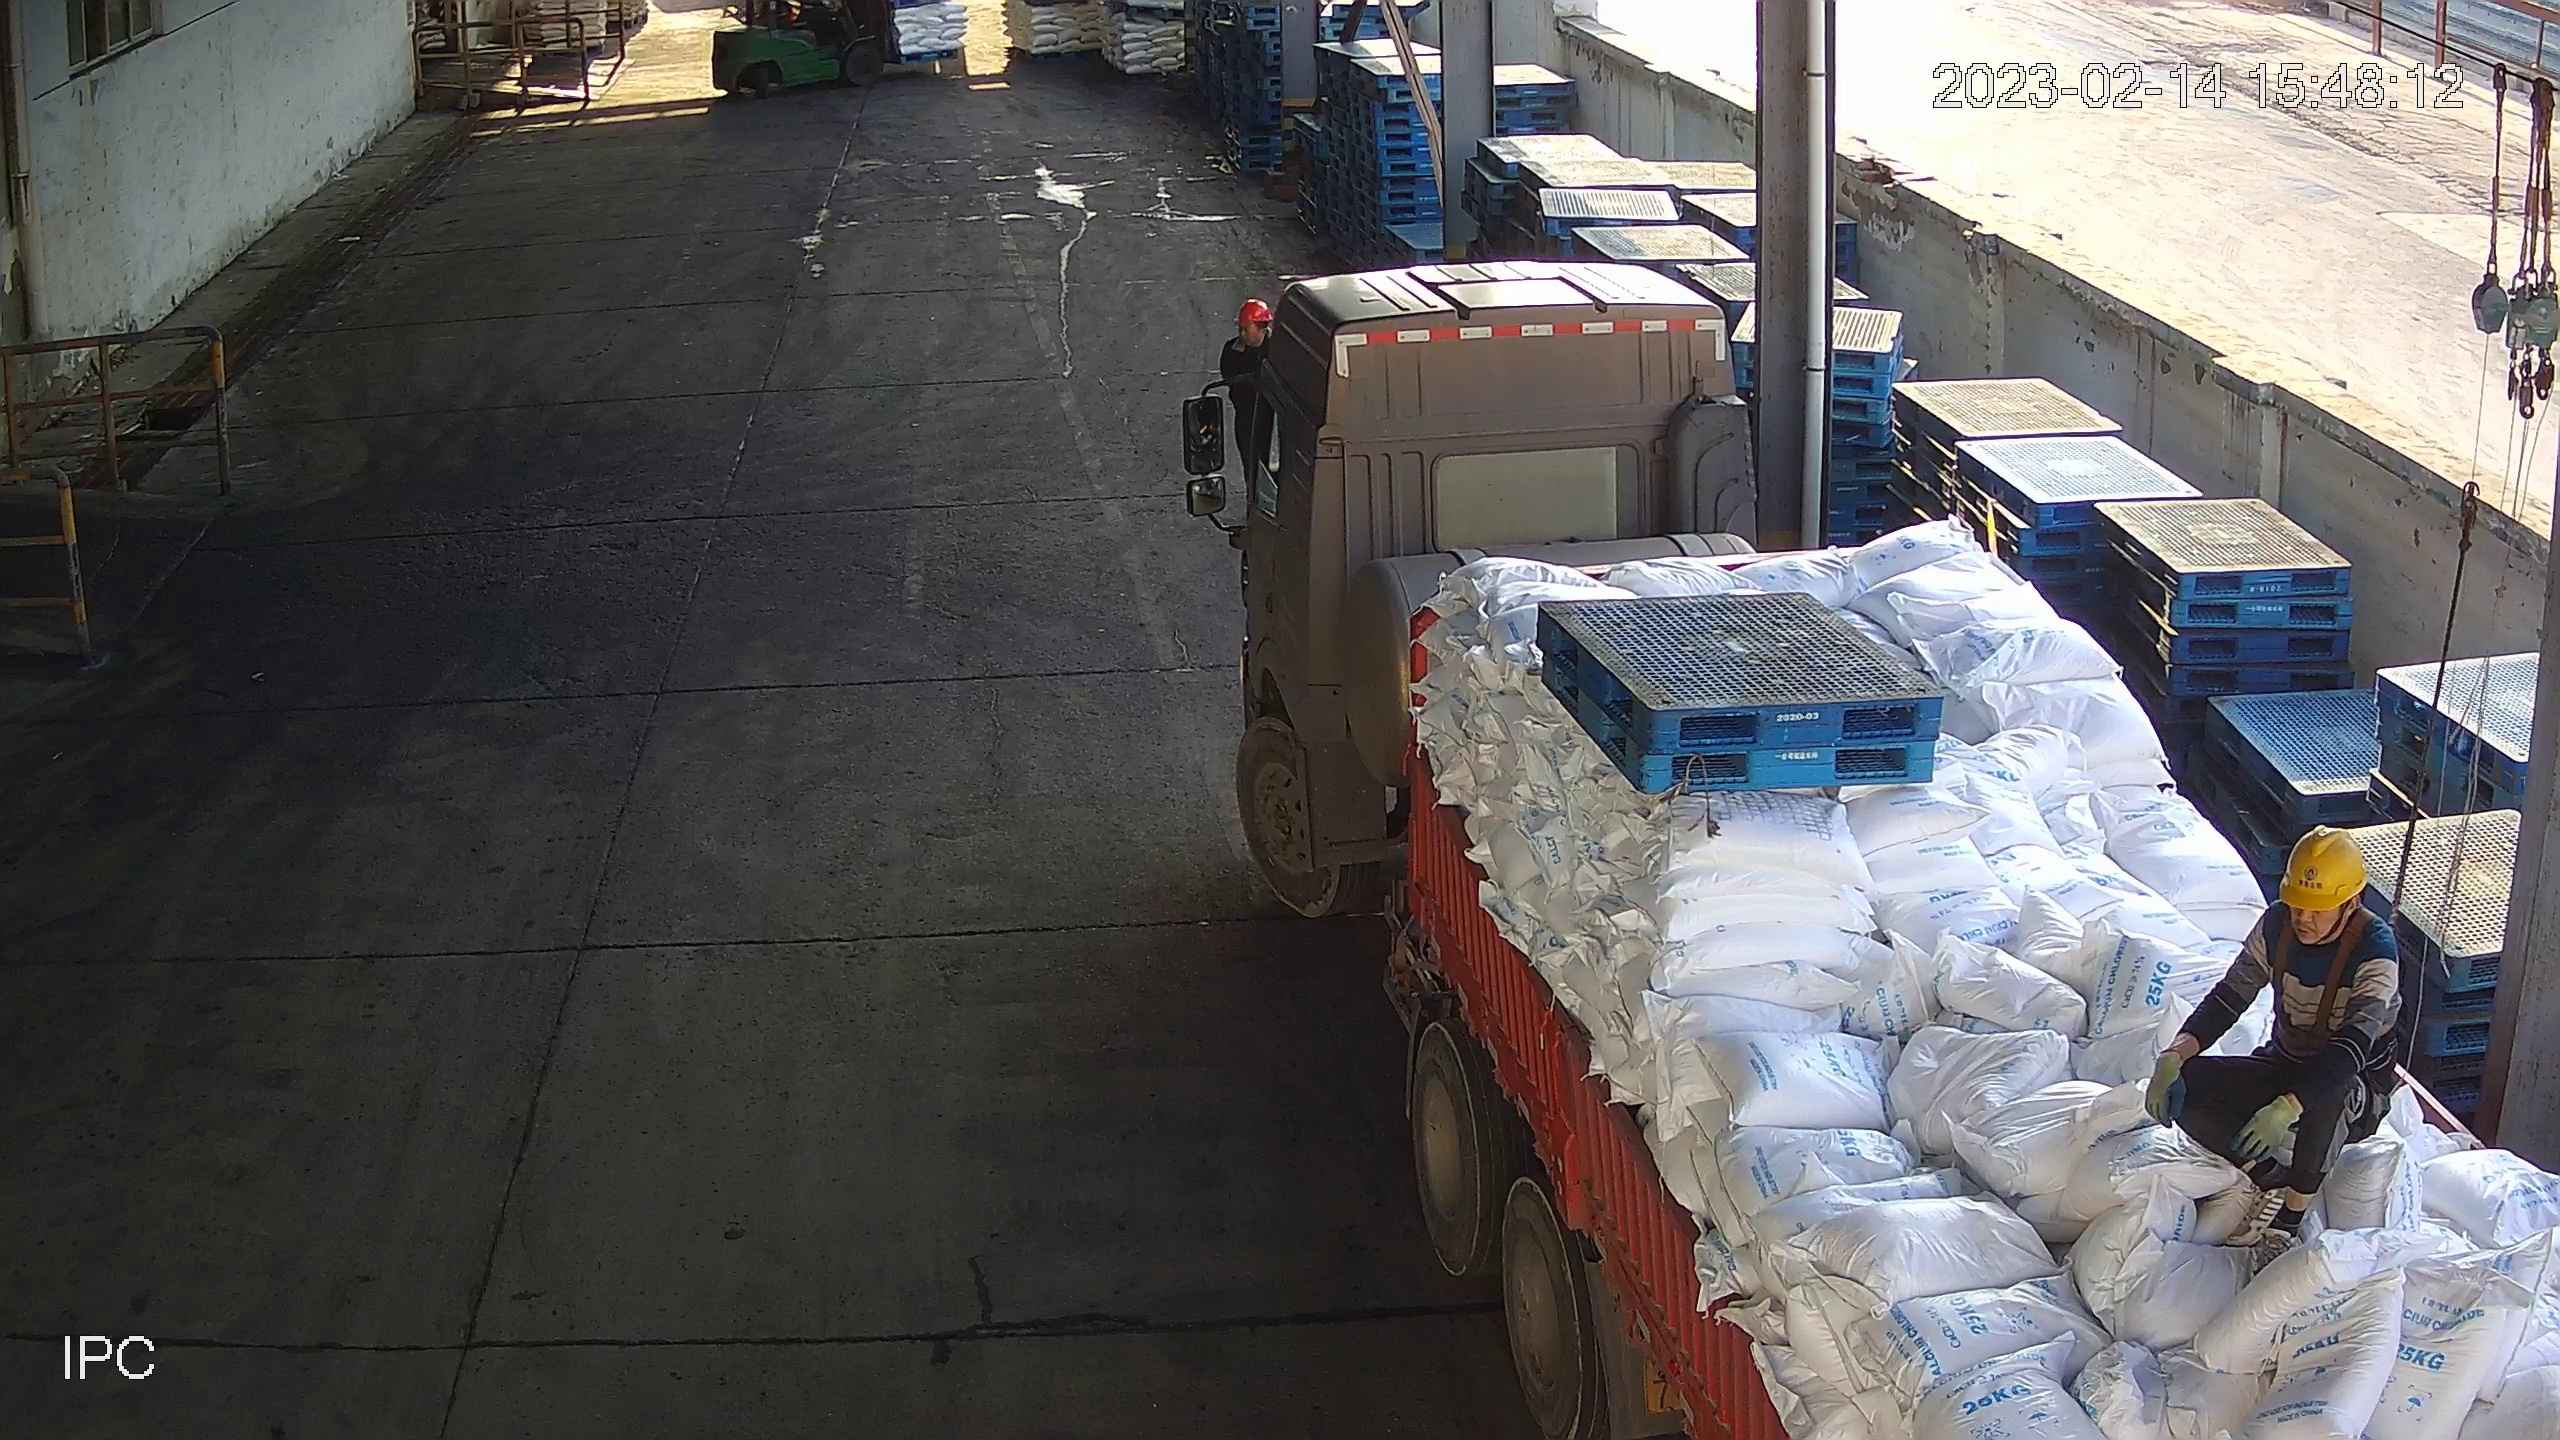head: (2256, 818, 2407, 1032), (1222, 295, 1276, 385)
helmet: (2271, 814, 2369, 918), (1233, 295, 1273, 327)
people: (1218, 244, 2560, 1440), (2134, 814, 2412, 1253)
